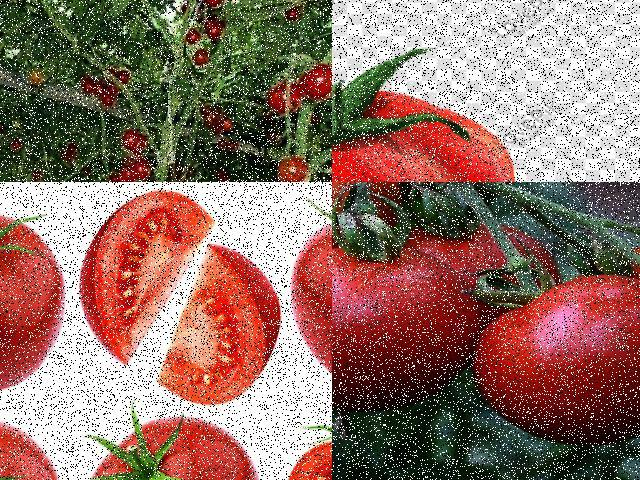tomato: (483, 271, 639, 458), (332, 249, 483, 418), (332, 88, 539, 181), (0, 207, 72, 390), (89, 414, 275, 479), (288, 214, 331, 395), (332, 182, 402, 265), (261, 80, 305, 112), (299, 66, 331, 108), (116, 129, 152, 154), (271, 161, 313, 181), (186, 48, 212, 68), (78, 77, 98, 96), (132, 161, 149, 180), (289, 7, 311, 21), (119, 68, 130, 88), (62, 144, 78, 156), (33, 168, 45, 181), (205, 0, 224, 8)
